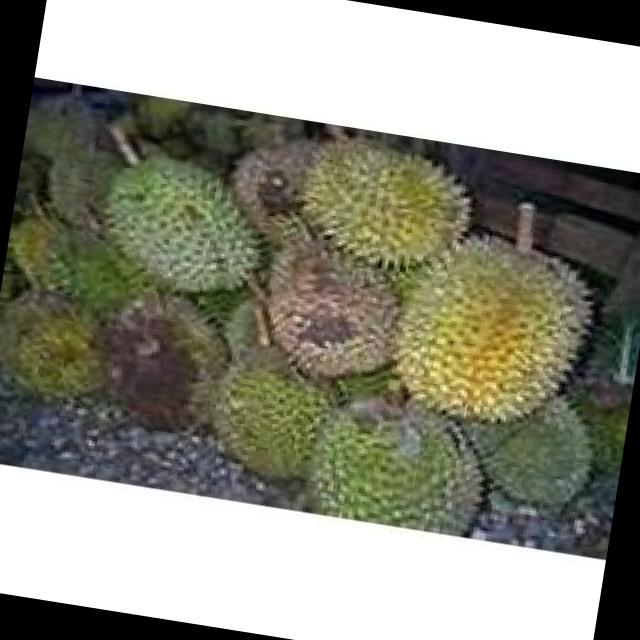fruit: (0, 89, 315, 487), (334, 177, 640, 486)
